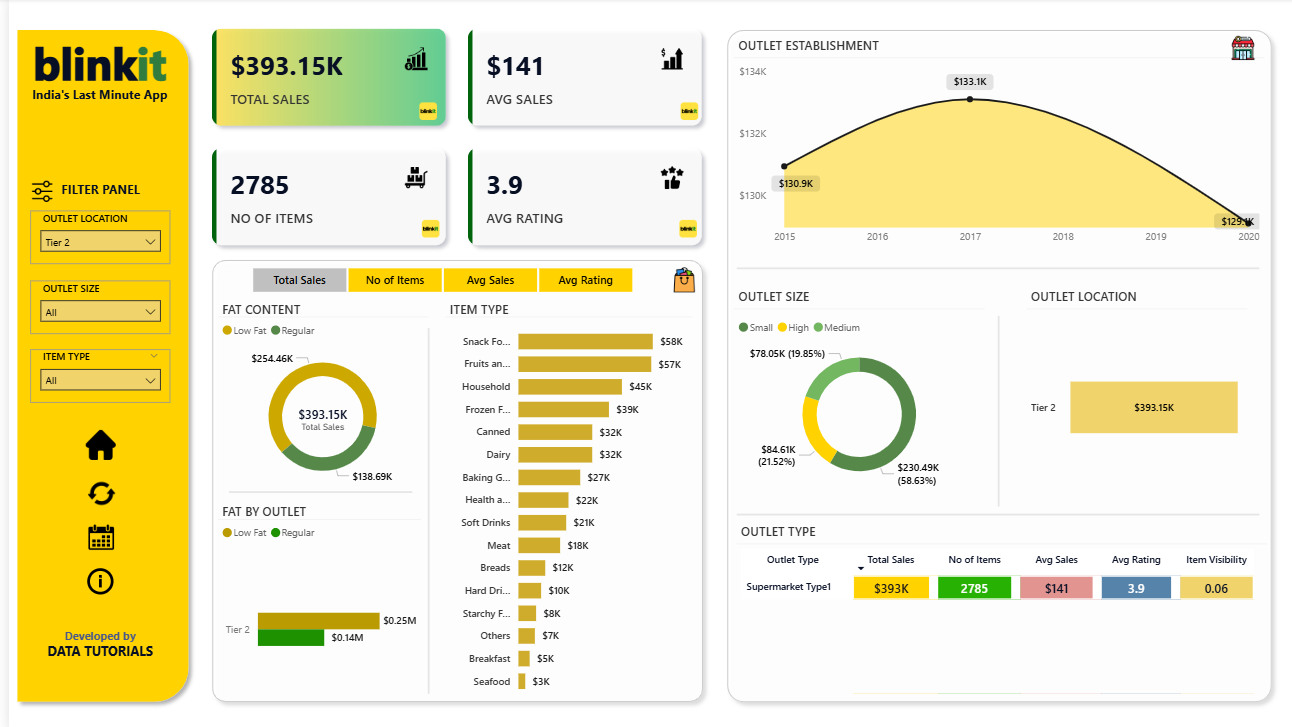

The page's visual inventory and layout, read from the dashboard file:
{"tool":"powerbi","page":{"name":"Home","canvas":[1400,800],"ordinal":0},"visuals":[{"type":"shape","box":[0,25.3,205,750.7],"z":0},{"type":"textbox","box":[0,33,198.1,82.1],"z":1000},{"type":"cardVisual","fields":{"Data":["BlinkIT Grocery Data.Total Sum Sales","BlinkIT Grocery Data.Average Sales","BlinkIT Grocery Data.No of Items","BlinkIT Grocery Data.Avg Rating"]},"box":[204.8,15.8,569.7,270.8],"z":2000},{"type":"image","box":[71.4,466.3,58.7,42.6],"z":3000},{"type":"image","box":[74.4,521.1,52.1,39.7],"z":4000},{"type":"image","box":[81.8,568.8,38,39.1],"z":5000},{"type":"shape","box":[774.5,25.5,611.7,751.1],"z":6000},{"type":"areaChart","title":"OUTLET ESTABLISHMENT","fields":{"Y":["BlinkIT Grocery Data.Total Sum Sales"],"Category":["BlinkIT Grocery Data.Outlet Establishment Year2"]},"box":[790.6,42.5,578.3,234],"z":7000},{"type":"textbox","box":[0,89.6,198.1,34],"z":8000},{"type":"donutChart","title":"OUTLET SIZE","fields":{"Category":["BlinkIT Grocery Data.Outlet Size"],"Y":["BlinkIT Grocery Data.Total Sum Sales"]},"box":[790.6,316,273.6,224.5],"z":9000},{"type":"funnel","title":"OUTLET LOCATION","fields":{"Category":["BlinkIT Grocery Data.Outlet Location Type"],"Y":["BlinkIT Grocery Data.Total Sum Sales"]},"box":[1110.4,316,240.6,234],"z":10000},{"type":"pivotTable","title":"OUTLET TYPE","fields":{"Rows":["BlinkIT Grocery Data.Outlet Type"],"Values":["BlinkIT Grocery Data.Total Sum Sales","BlinkIT Grocery Data.No of Items","BlinkIT Grocery Data.Average Sales","BlinkIT Grocery Data.Avg Rating","Avg(BlinkIT Grocery Data.Item Visibility)"]},"box":[793.6,572.3,578.7,197.1],"z":11000},{"type":"shape","box":[793.4,284.9,570.8,19.8],"z":12000},{"type":"shape","box":[1064.2,346.2,29.2,208.5],"z":13000},{"type":"shape","box":[212.8,276.6,553.2,500],"z":14000},{"type":"donutChart","title":"FAT CONTENT","fields":{"Y":["BlinkIT Grocery Data.Total Sum Sales"],"Category":["BlinkIT Grocery Data.Item Fat Content"]},"box":[228.3,330.2,229.2,213.2],"z":15000},{"type":"shape","box":[793.4,553.8,570.8,19.8],"z":16000},{"type":"cardVisual","fields":{"Data":["BlinkIT Grocery Data.Total Sum Sales"]},"box":[291.9,428.1,102,54.5],"z":17000},{"type":"slicer","fields":{"Values":["Metric.Metric"]},"box":[240,287.5,464.2,39.6],"z":18000},{"type":"barChart","title":"ITEM TYPE","fields":{"Y":["BlinkIT Grocery Data.Total Sum Sales"],"Category":["BlinkIT Grocery Data.Item Type"]},"box":[475.3,330.2,269.8,438.1],"z":19000},{"type":"shape","box":[442.5,360.4,29.2,399.1],"z":20000},{"type":"clusteredBarChart","title":"FAT BY OUTLET","fields":{"Y":["BlinkIT Grocery Data.Total Sum Sales"],"Category":["BlinkIT Grocery Data.Outlet Location Type"],"Series":["BlinkIT Grocery Data.Item Fat Content"]},"box":[228.3,550.9,221.7,229.2],"z":21000},{"type":"shape","box":[239.6,529.2,200,19.8],"z":22000},{"type":"image","box":[725.5,108.5,33,29.2],"z":23000},{"type":"image","box":[723.6,237.7,33,29.2],"z":24000},{"type":"image","box":[442.5,237.7,33,29.2],"z":25000},{"type":"image","box":[440.6,108.5,33,29.2],"z":26000},{"type":"image","box":[715.6,289.2,41.3,36.9],"z":27000},{"type":"image","box":[1327.5,33.4,36,40.4],"z":28000},{"type":"slicer","fields":{"Values":["BlinkIT Grocery Data.Outlet Location Type"]},"box":[23.7,231.2,153,58],"z":29000},{"type":"slicer","fields":{"Values":["BlinkIT Grocery Data.Outlet Size"]},"box":[23.7,307.7,153,58],"z":30000},{"type":"slicer","fields":{"Values":["BlinkIT Grocery Data.Item Type"]},"box":[23.7,382.4,153,58],"z":31000},{"type":"textbox","box":[36.8,193.4,126.4,31.1],"z":32000},{"type":"image","box":[18.9,184,34.9,53.8],"z":33000},{"type":"textbox","box":[36.8,680.5,125.5,28.8],"z":34000},{"type":"textbox","box":[36.8,697.8,125.5,28.8],"z":35000},{"type":"actionButton","box":[80.6,616.6,38.5,39.7],"z":38000}]}

Visuals, with their boxes in screenshot pixels (x1, y1, x2, y2), scaled from the page's 1400x800 canvas onto the 1292x727 screenshot:
shape: [0,23,189,705]
textbox: [0,30,183,105]
cardVisual - BlinkIT Grocery Data.Total Sum Sales x BlinkIT Grocery Data.Average Sales: [189,14,715,260]
image: [66,424,120,462]
image: [69,474,117,510]
image: [75,517,111,552]
shape: [715,23,1279,706]
"OUTLET ESTABLISHMENT" areaChart: [730,39,1263,251]
textbox: [0,81,183,112]
"OUTLET SIZE" donutChart: [730,287,982,491]
"OUTLET LOCATION" funnel: [1025,287,1247,500]
"OUTLET TYPE" pivotTable: [732,520,1266,699]
shape: [732,259,1259,277]
shape: [982,315,1009,504]
shape: [196,251,707,706]
"FAT CONTENT" donutChart: [211,300,422,494]
shape: [732,503,1259,521]
cardVisual - BlinkIT Grocery Data.Total Sum Sales: [269,389,364,439]
slicer - Metric.Metric: [221,261,650,297]
"ITEM TYPE" barChart: [439,300,688,698]
shape: [408,328,435,690]
"FAT BY OUTLET" clusteredBarChart: [211,501,415,709]
shape: [221,481,406,499]
image: [670,99,700,125]
image: [668,216,698,243]
image: [408,216,439,243]
image: [407,99,437,125]
image: [660,263,699,296]
image: [1225,30,1258,67]
slicer - BlinkIT Grocery Data.Outlet Location Type: [22,210,163,263]
slicer - BlinkIT Grocery Data.Outlet Size: [22,280,163,332]
slicer - BlinkIT Grocery Data.Item Type: [22,348,163,400]
textbox: [34,176,151,204]
image: [17,167,50,216]
textbox: [34,618,150,645]
textbox: [34,634,150,660]
actionButton: [74,560,110,596]
